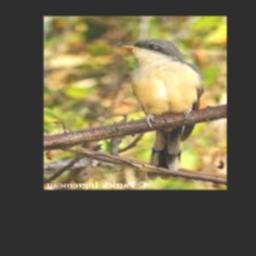Cuckoo: (117, 39, 206, 180)
